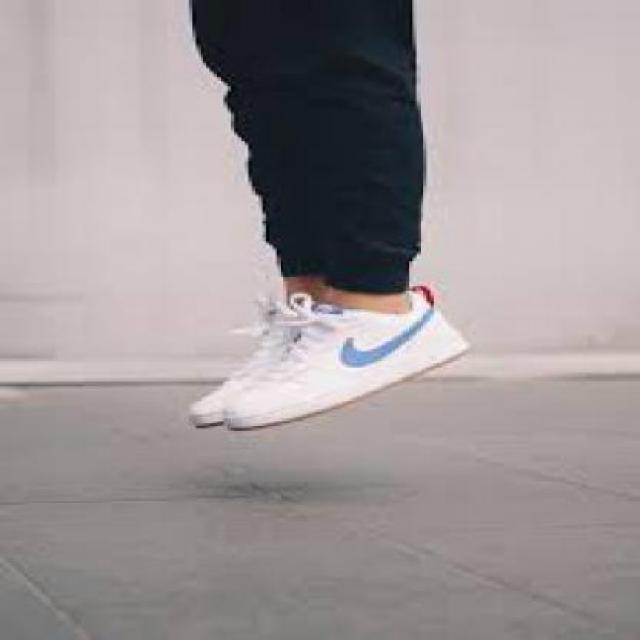Nike: (332, 307, 434, 369)
